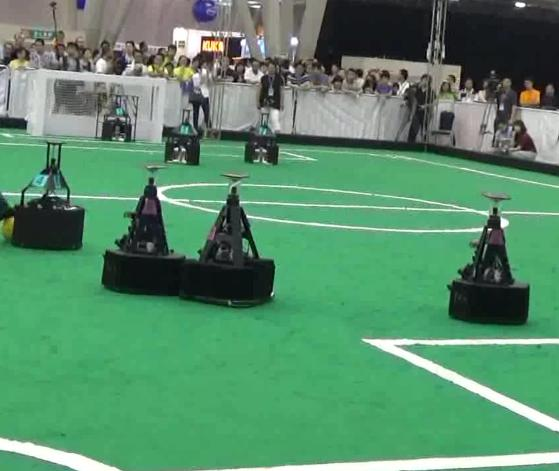robot: (186, 168, 280, 308), (442, 191, 536, 328), (102, 160, 185, 300), (9, 138, 88, 253), (164, 107, 200, 168), (242, 109, 280, 166), (98, 94, 136, 142)
